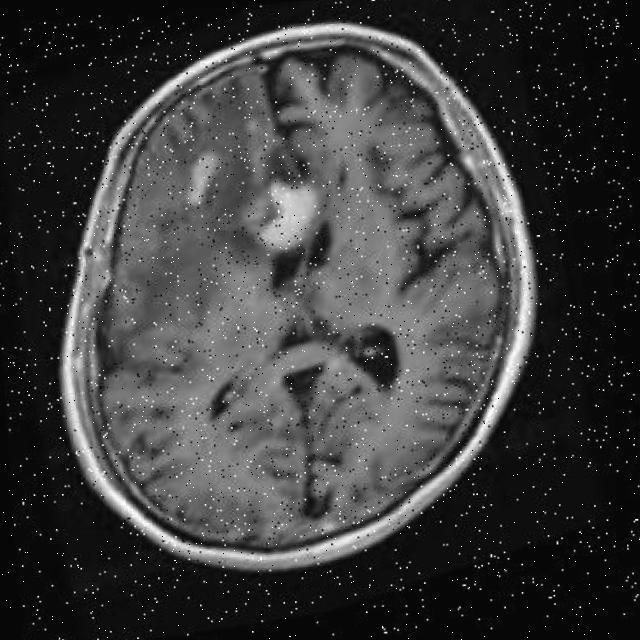EMCI: (226, 127, 388, 312)
